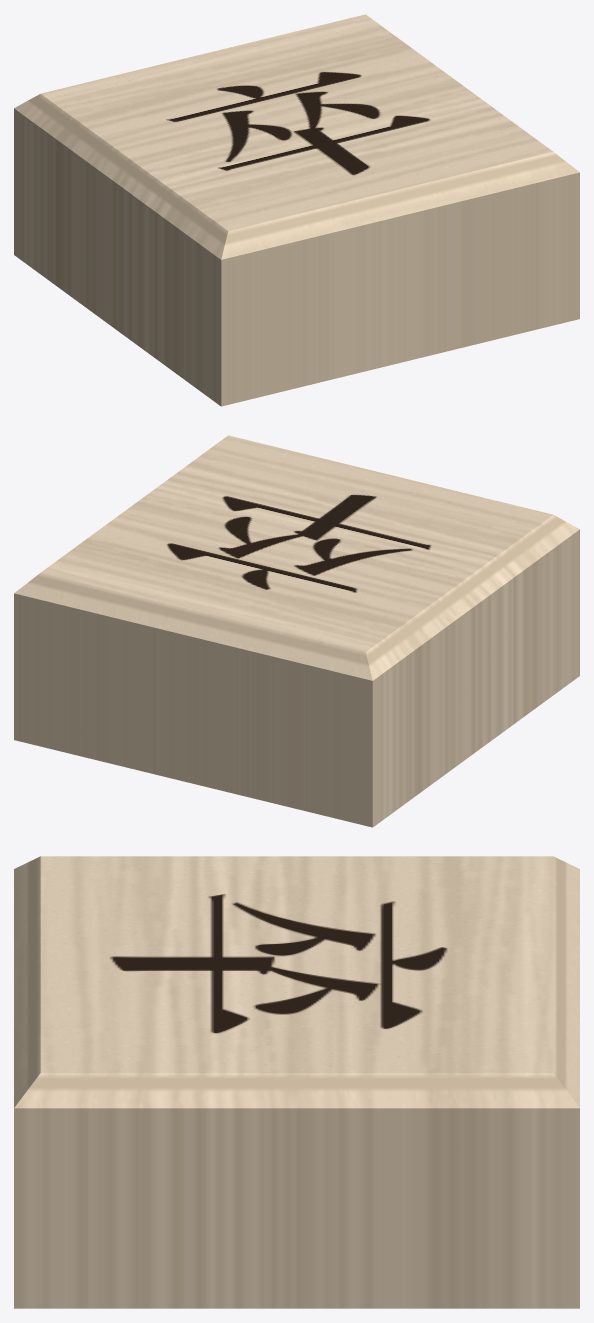
Rendered from tile_zu.glb.
The picture shows the model from 3 angles, top to bottom: view 1: azimuth 30°, elevation 25°; view 2: azimuth 150°, elevation 25°; view 3: azimuth 270°, elevation 25°; orthographic projection. The views are drawn at different scales.
Visible parts, largest first — view 1: tile_zu; view 2: tile_zu; view 3: tile_zu.
Part boxes in pixels (x1,y1,x2,y2): tile_zu: (14,14,579,406); tile_zu: (14,435,579,827); tile_zu: (14,856,579,1308).
Size of the model in its own units: 0.064 by 0.028 by 0.064.
Materials: 1 (1 with a texture image).
